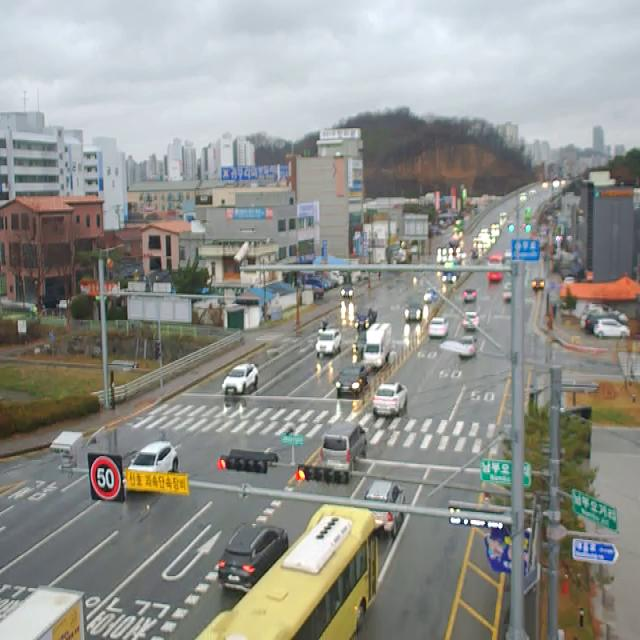Bus: (195, 504, 380, 640), (442, 258, 462, 282), (488, 252, 505, 280)
Car: (218, 523, 288, 592), (363, 481, 406, 535), (320, 421, 367, 470), (128, 442, 178, 473), (373, 382, 408, 415), (581, 305, 629, 328), (222, 364, 259, 393), (336, 365, 369, 394), (585, 310, 627, 332), (594, 319, 630, 339), (316, 329, 342, 356), (428, 317, 449, 339), (356, 308, 378, 329), (459, 336, 477, 357), (352, 331, 367, 354), (404, 303, 422, 321), (464, 312, 479, 331), (424, 286, 440, 303), (464, 288, 477, 303), (503, 282, 512, 302), (532, 278, 545, 290)
Truck: (0, 576, 98, 639), (364, 322, 392, 367)
